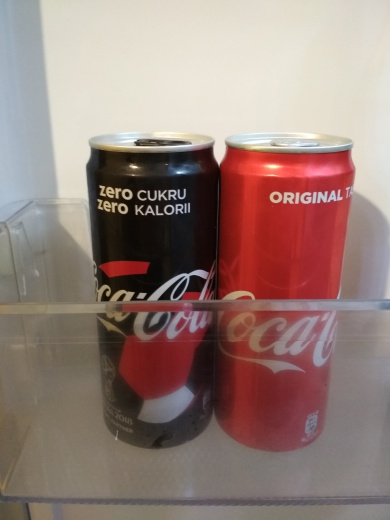cola: (206, 105, 362, 452)
colazero: (74, 114, 226, 458)
